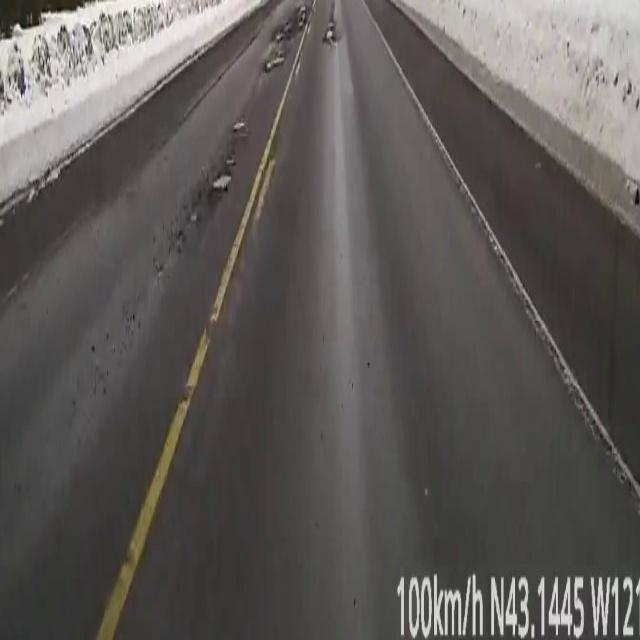pothole: (264, 46, 284, 70), (211, 171, 229, 195), (324, 18, 336, 44), (232, 118, 245, 137), (296, 0, 306, 24)
